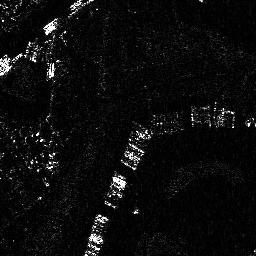ship: (42, 15, 61, 35)
